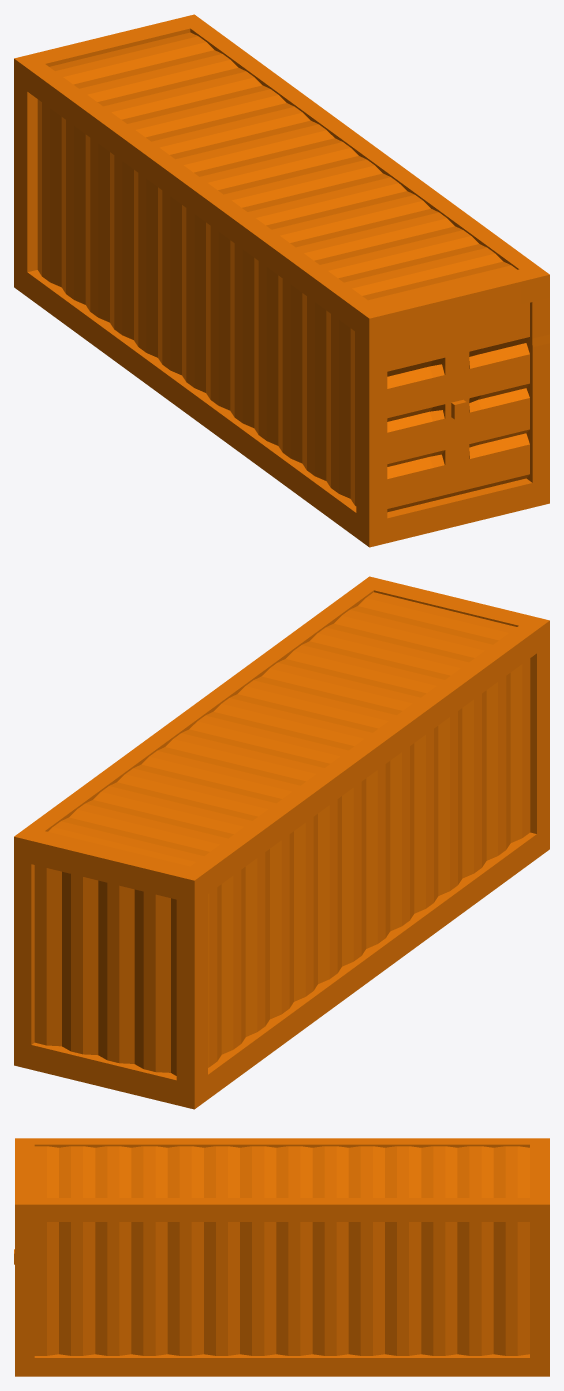
The model's file is ContenedorNaranja.fbx.
3 renders of one model, top to bottom at view 1: azimuth 30°, elevation 25°; view 2: azimuth 150°, elevation 25°; view 3: azimuth 270°, elevation 25°, orthographic. The views are drawn at different scales.
Parts seen in each view (by area): view 1: Cubo.003; view 2: Cubo.003; view 3: Cubo.003.
Boxes of the visible parts, x1=… form: Cubo.003: x1=14, y1=14, x2=549, y2=547; Cubo.003: x1=14, y1=576, x2=549, y2=1109; Cubo.003: x1=14, y1=1138, x2=549, y2=1376.
Bounding box in the file's own units: 570 × 690 × 1947.
